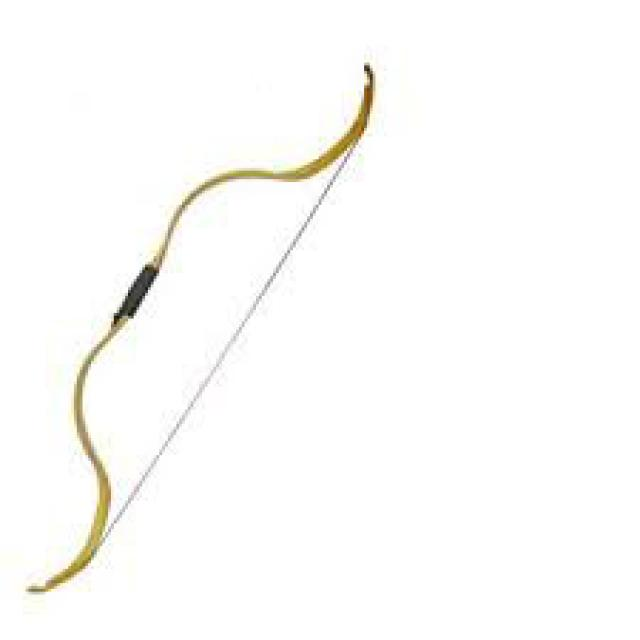X-Bow: (21, 54, 381, 604)
